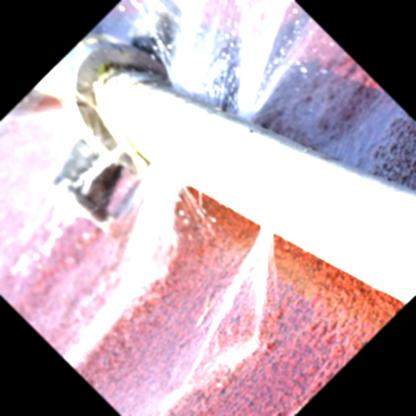burst: (157, 48, 272, 132), (231, 191, 287, 257)
